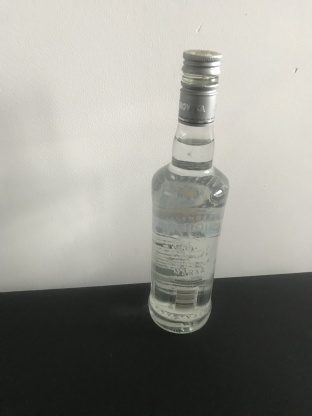nakretka: (176, 46, 223, 126)
